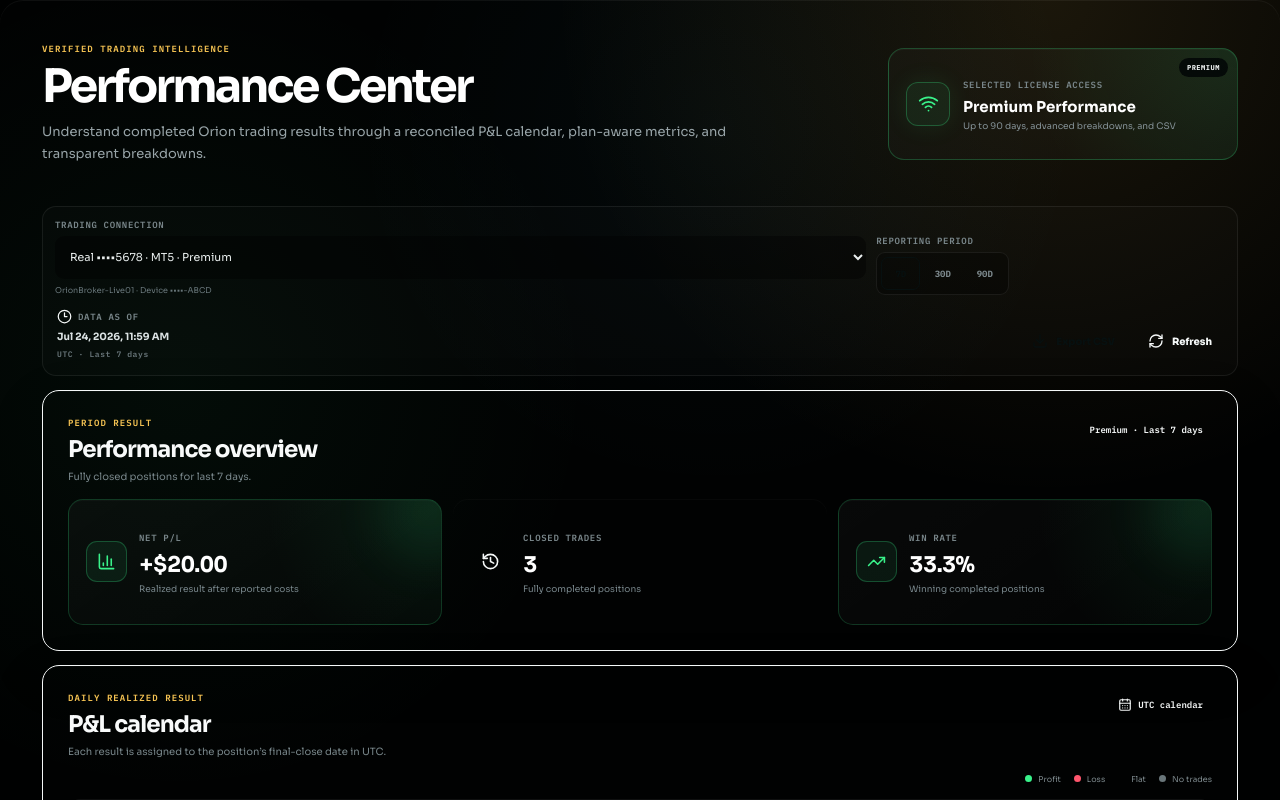
client Performance Center request lifecycle › requests authoritative connection and range changes with the selected scope
This screenshot has width=1280, height=800.
Select "Real ••••4321 · MT5 · Premium" in the dropdown labelled "Trading connection OrionBroker-Live01 · Device ••••-ABCD": x=461, y=257 x1=55 y1=236 x2=866 y2=279
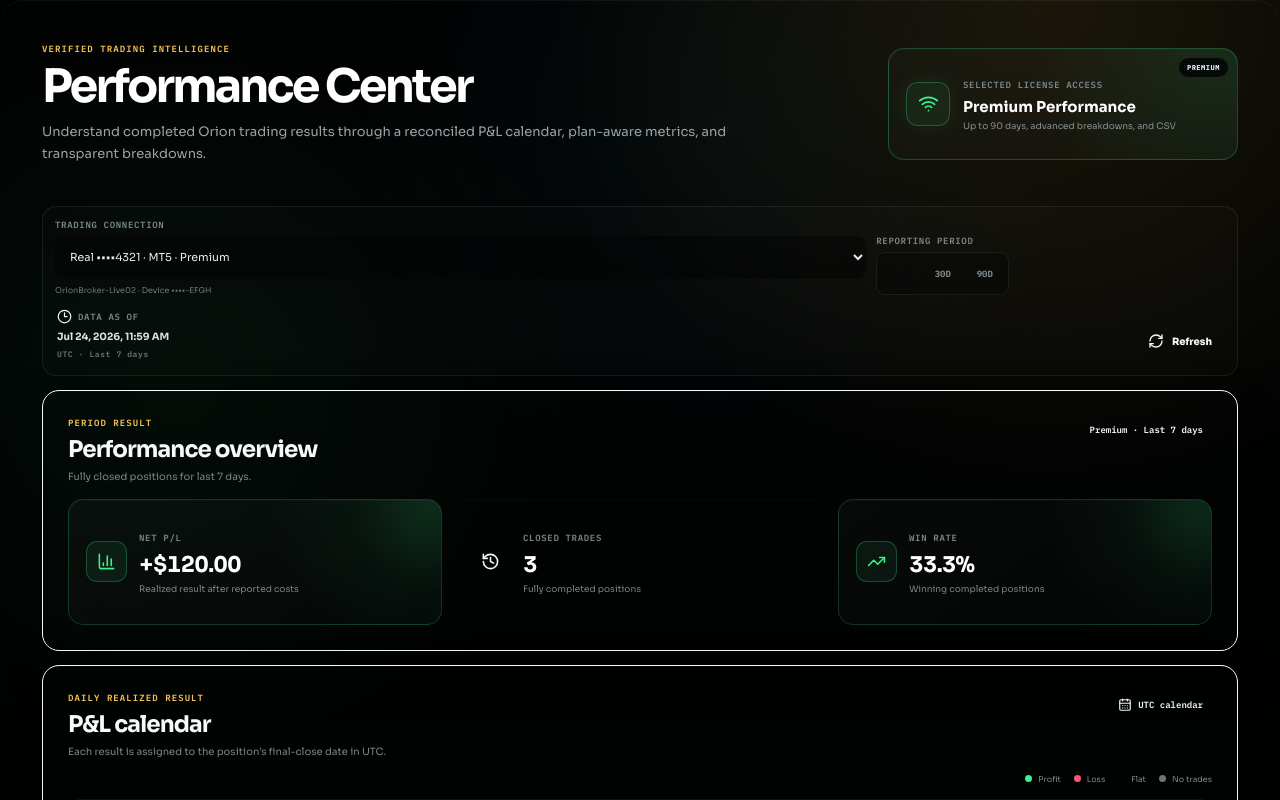
Expected: the text "OrionBroker-Live02 · Device ••••-EFGH" is shown, x1=55 y1=285 x2=212 y2=295
Click the button "30D": x=943, y=273 x1=923 y1=257 x2=962 y2=290
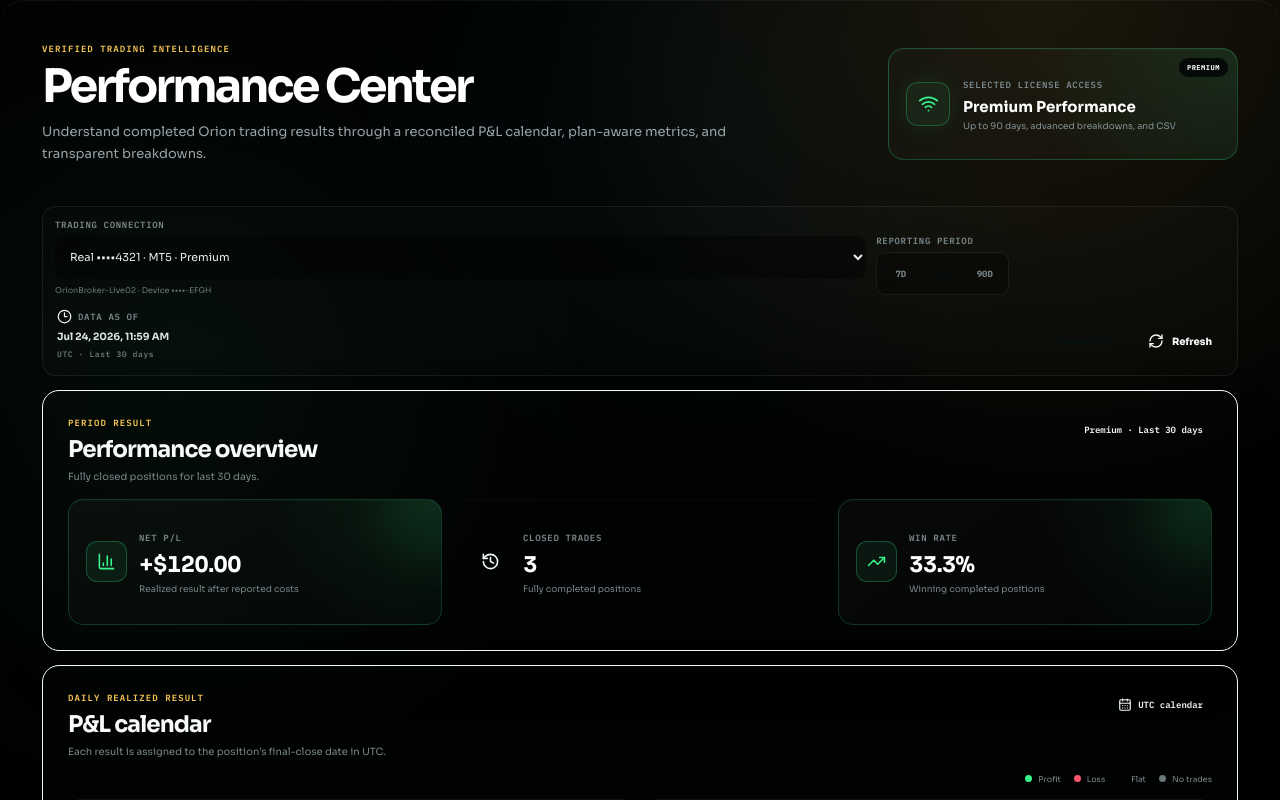
Expected: the text "UTC · Last 30 days" is shown, x1=57 y1=349 x2=154 y2=359
